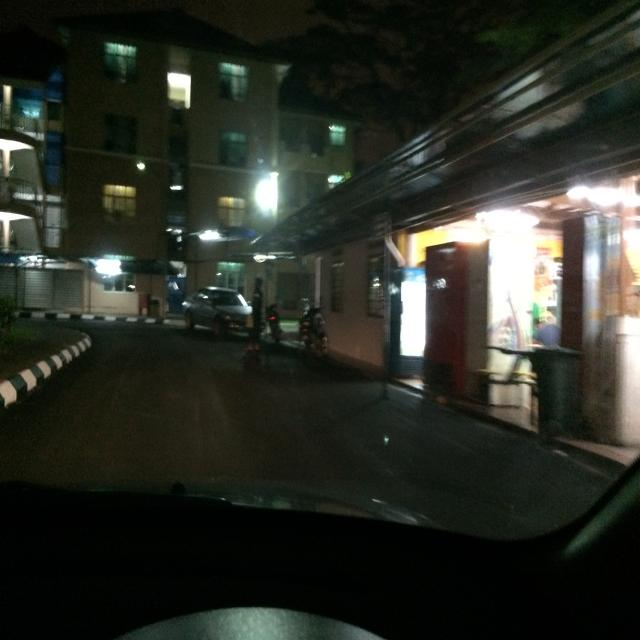Car: (176, 263, 254, 356)
Motorbike: (279, 285, 339, 371)
